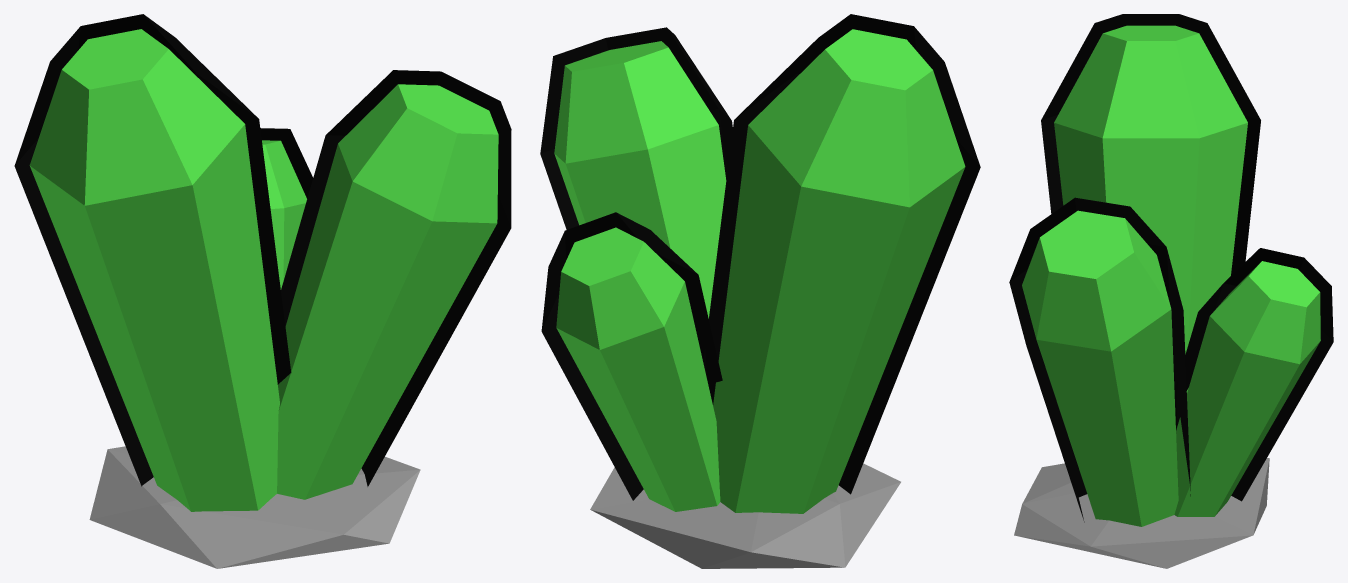
Rendered from Crystal2.glb.
3 renders of one model, left to right at view 1: azimuth 30°, elevation 25°; view 2: azimuth 150°, elevation 25°; view 3: azimuth 270°, elevation 25°, orthographic. The views are drawn at different scales.
Visible parts, largest first — view 1: Circle.009, Circle.008, Icosphere.014; view 2: Circle.009, Circle.008, Icosphere.014; view 3: Circle.009, Circle.008, Icosphere.014.
Boxes of the visible parts, <box> form: Circle.009: <box>29,29,498,511</box>; Circle.008: <box>14,14,511,486</box>; Icosphere.014: <box>89,446,420,568</box>; Circle.009: <box>554,29,965,513</box>; Circle.008: <box>540,14,980,500</box>; Icosphere.014: <box>590,463,900,568</box>; Circle.009: <box>1022,25,1320,526</box>; Circle.008: <box>1009,14,1333,522</box>; Icosphere.014: <box>1014,458,1269,568</box>.
Bounding box in the file's own units: 0.0803 × 0.098 × 0.0601.
